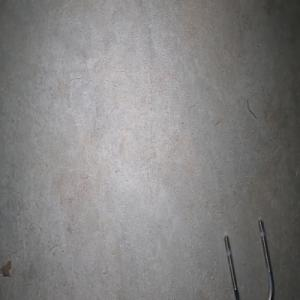ClampPart: (223, 218, 275, 300)
